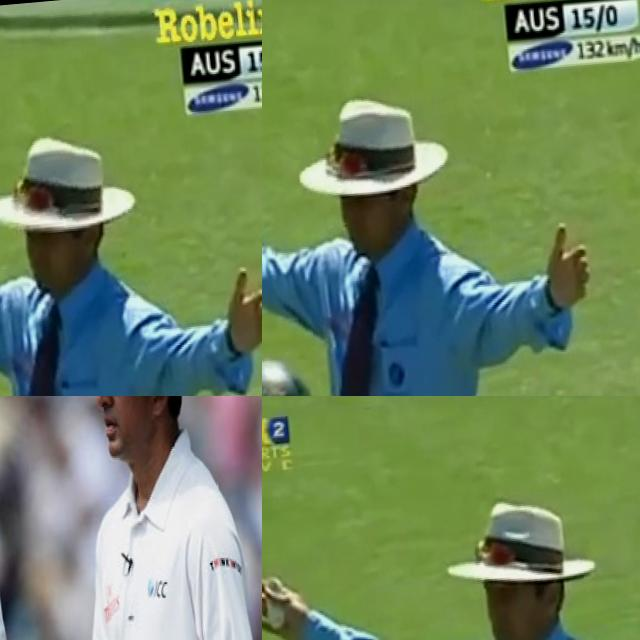No_Action: (14, 396, 262, 640), (0, 396, 168, 640)
Wide: (262, 69, 612, 396), (0, 100, 262, 396), (262, 470, 640, 640)
